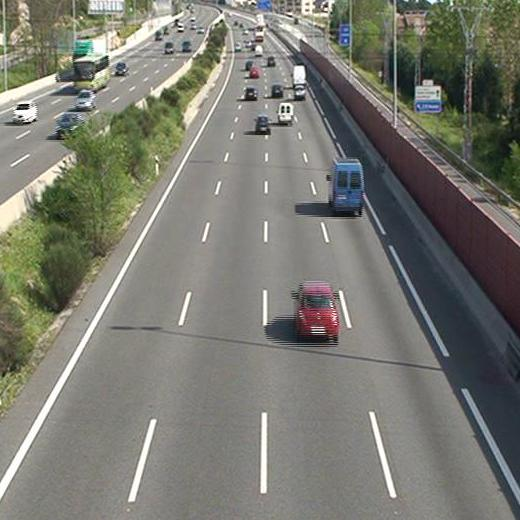car: (297, 283, 340, 338), (255, 116, 270, 134), (271, 85, 285, 98), (244, 87, 258, 100), (294, 86, 306, 98), (250, 67, 260, 79), (267, 55, 276, 67)
van: (331, 161, 363, 212), (278, 102, 294, 124), (293, 64, 307, 85)
